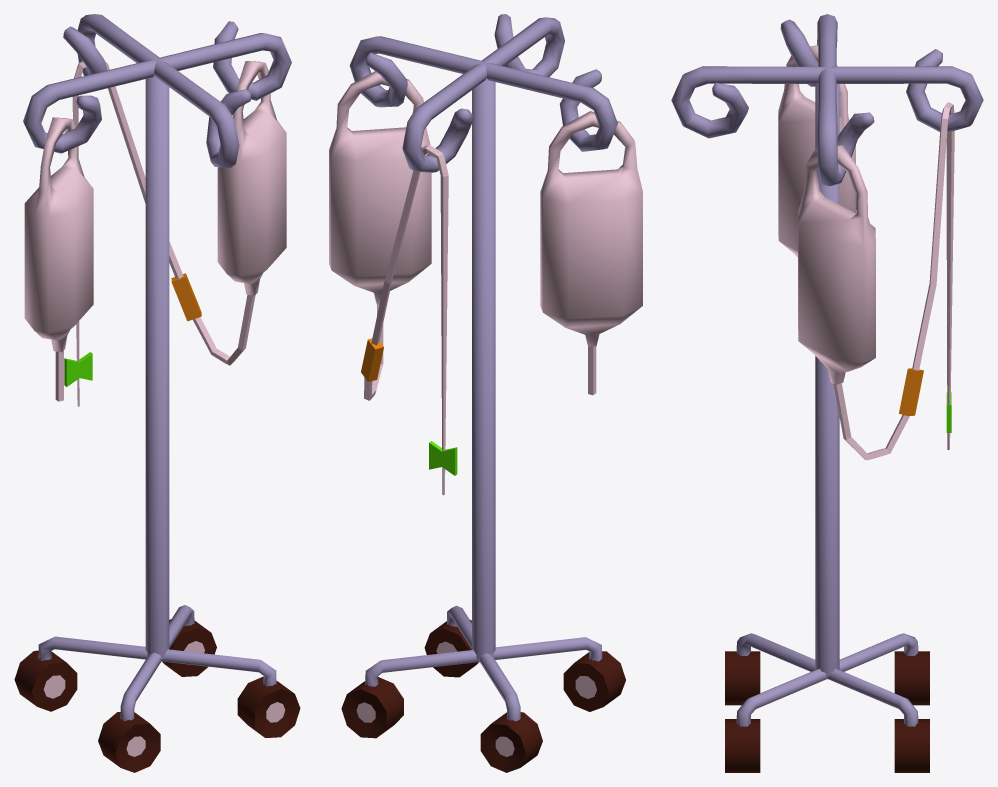
Rendered from Dropper.fbx.
3 views of the same model, side by side, from view 1: azimuth 30°, elevation 25°; view 2: azimuth 150°, elevation 25°; view 3: azimuth 270°, elevation 25° (orthographic). The views are drawn at different scales.
Visible parts, largest first — view 1: Dropper; view 2: Dropper; view 3: Dropper.
Part boxes in pixels (x1=…): Dropper: x1=14, y1=14, x2=300, y2=772; Dropper: x1=329, y1=14, x2=642, y2=772; Dropper: x1=671, y1=14, x2=983, y2=772.
Bounding box in the file's own units: 1.08 × 2.44 × 1.03.
